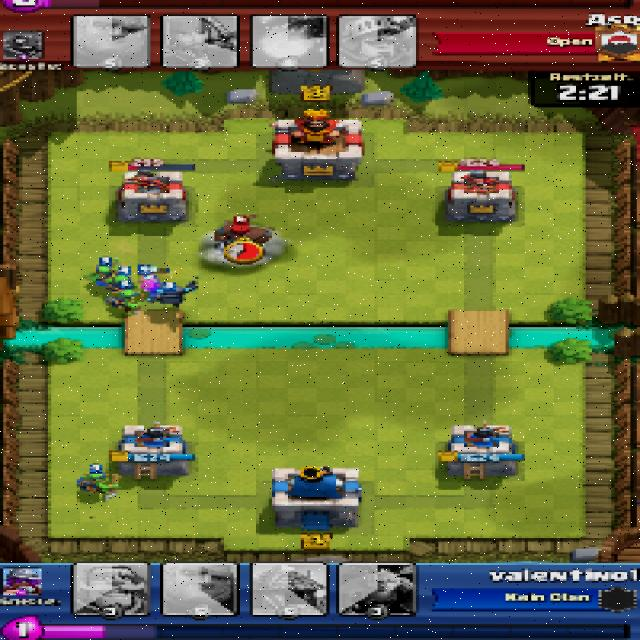Enemy-Hunter: (211, 225, 273, 252)
Player-Archer: (140, 278, 162, 300)
Player-MiniPEKKA: (146, 277, 203, 309)
Player-SpearGoblin: (76, 471, 121, 500), (89, 260, 120, 287), (112, 294, 146, 316), (105, 270, 132, 294)
